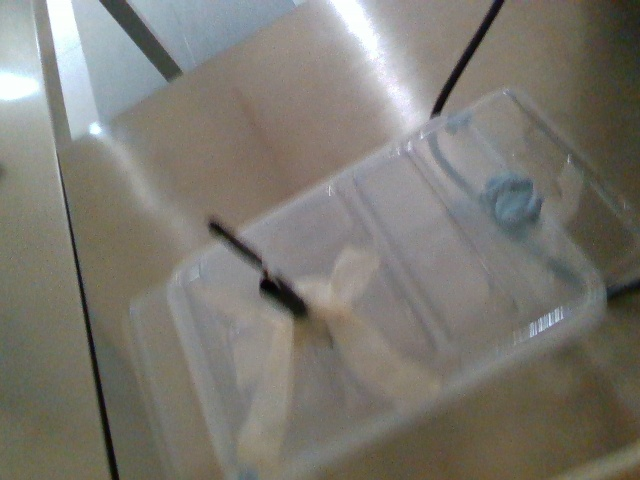test_strip: (203, 212, 273, 282)
